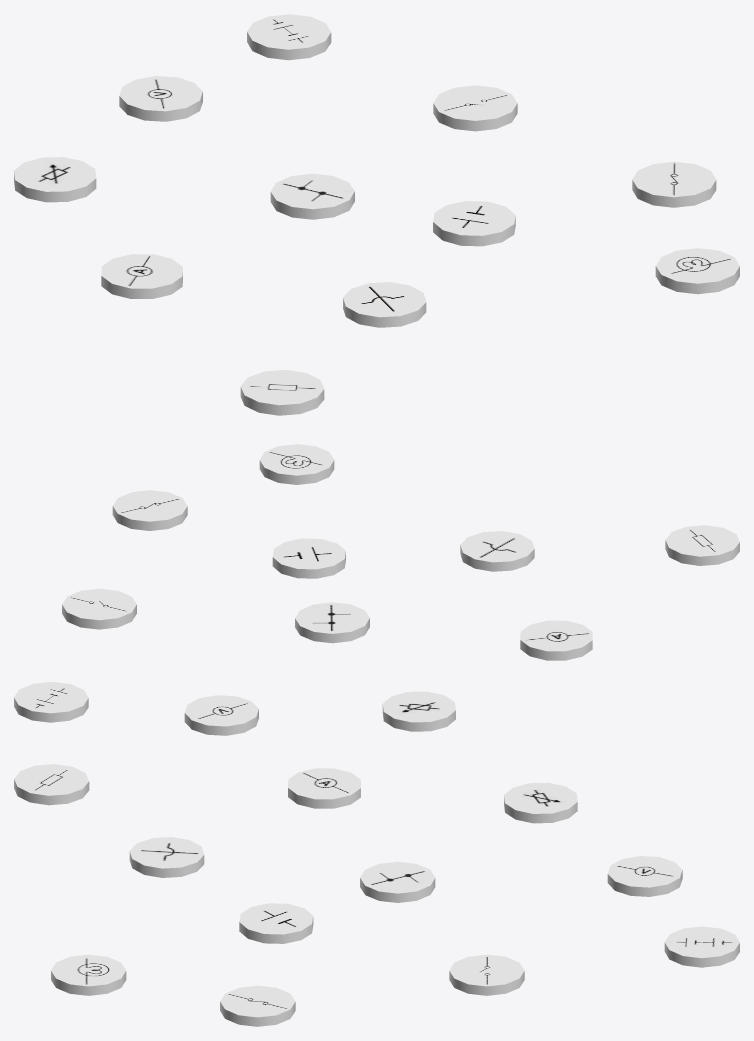
The model's file is Symbols fbx.fbx.
3 views of the same model, one above another, from view 1: azimuth 30°, elevation 25°; view 2: azimuth 150°, elevation 25°; view 3: azimuth 270°, elevation 25° (orthographic). The views are drawn at different scales.
Visible parts, largest first — view 1: Switch_open, Wire_joint, Bulb, Switch_close, Battery, Resisitor, Wire_crossing, Voltmeter, Rheostat, Cell, Ammeter; view 2: Switch_close, Bulb, Wire_crossing, Resisitor, Switch_open, Wire_joint, Voltmeter, Battery, Cell, Rheostat, Ammeter; view 3: Resisitor, Switch_close, Wire_crossing, Switch_open, Voltmeter, Battery, Bulb, Wire_joint, Cell, Rheostat, Ammeter.
Part boxes in pixels (bbox=[...]): Switch_open: bbox=[433, 85, 517, 131]; Wire_joint: bbox=[270, 173, 354, 219]; Bulb: bbox=[655, 248, 739, 294]; Switch_close: bbox=[632, 161, 716, 207]; Battery: bbox=[247, 14, 331, 60]; Resisitor: bbox=[240, 369, 324, 415]; Wire_crossing: bbox=[343, 282, 426, 327]; Voltmeter: bbox=[119, 76, 202, 121]; Rheostat: bbox=[14, 157, 96, 202]; Cell: bbox=[433, 201, 515, 246]; Ammeter: bbox=[101, 254, 182, 298]; Switch_close: bbox=[112, 490, 187, 530]; Bulb: bbox=[259, 444, 334, 484]; Wire_crossing: bbox=[460, 531, 534, 571]; Resisitor: bbox=[665, 525, 739, 565]; Switch_open: bbox=[62, 588, 136, 629]; Wire_joint: bbox=[295, 602, 369, 643]; Voltmeter: bbox=[184, 695, 258, 735]; Battery: bbox=[14, 682, 88, 722]; Cell: bbox=[272, 538, 345, 578]; Rheostat: bbox=[382, 691, 455, 731]; Ammeter: bbox=[520, 620, 592, 660]; Resisitor: bbox=[14, 764, 89, 805]; Switch_close: bbox=[220, 985, 295, 1026]; Wire_crossing: bbox=[129, 837, 204, 877]; Switch_open: bbox=[449, 954, 524, 995]; Voltmeter: bbox=[607, 856, 682, 896]; Battery: bbox=[664, 926, 739, 967]; Bulb: bbox=[51, 954, 126, 995]; Wire_joint: bbox=[360, 861, 435, 902]; Cell: bbox=[239, 903, 313, 943]; Rheostat: bbox=[504, 782, 577, 823]; Ammeter: bbox=[288, 768, 360, 808].
Size of the model in its own units: 786 by 16.95 by 951.
1 material, 1 textured.
